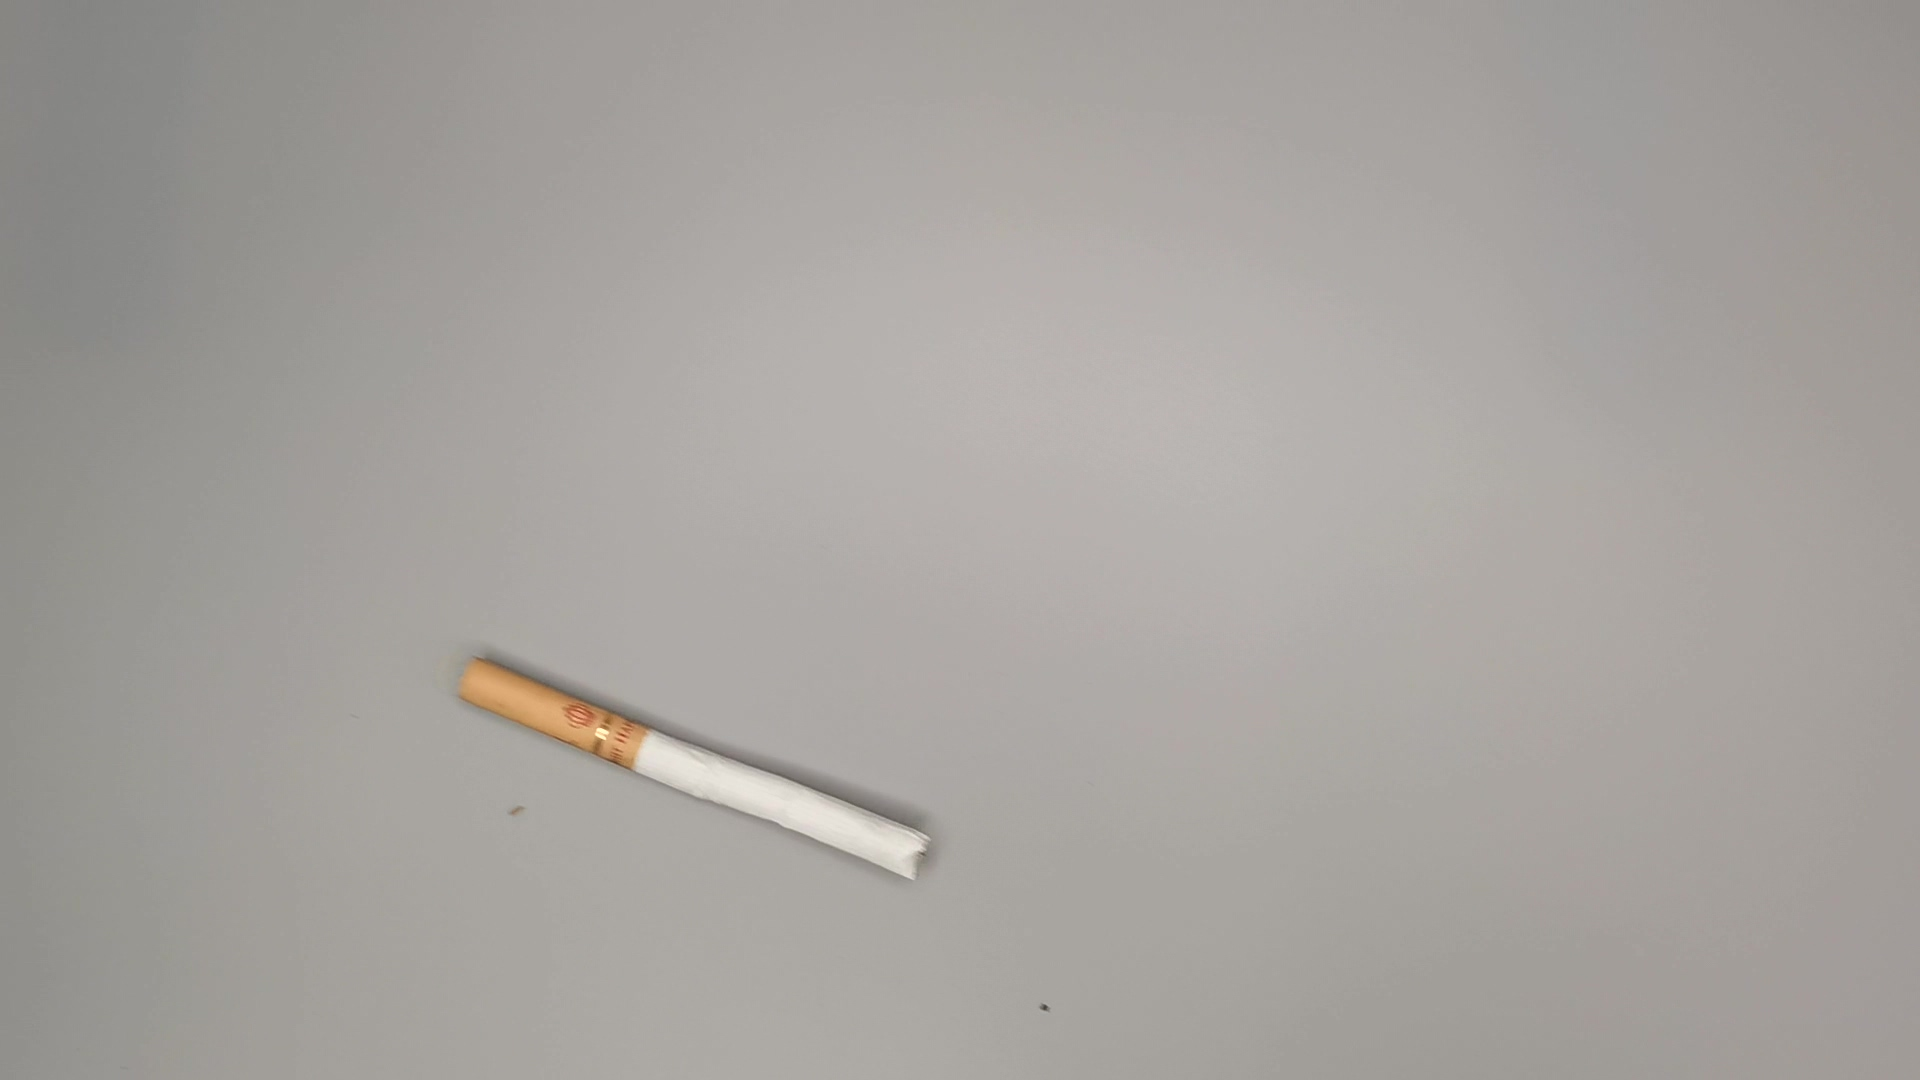cigarette: (444, 650, 947, 899)
